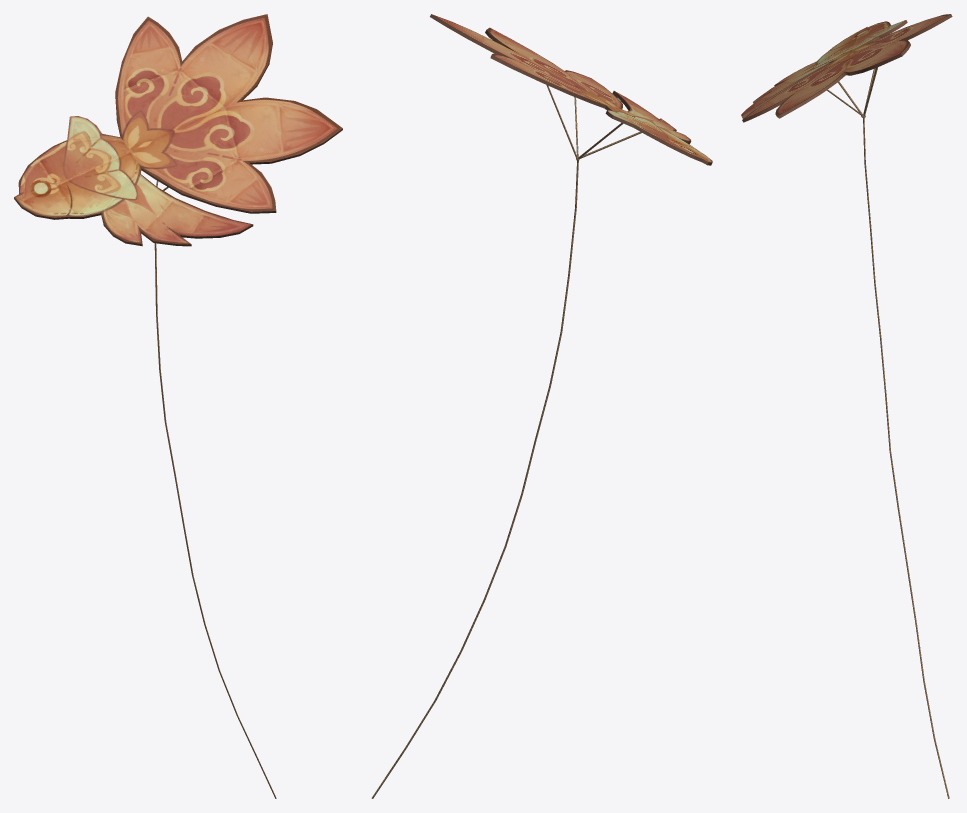
Rendered from Homeworld_Exterior_Ly_Decoration_Prop_HdjKite_04_Vo.fbx.
The picture shows the model from 3 angles, left to right: view 1: azimuth 30°, elevation 25°; view 2: azimuth 150°, elevation 25°; view 3: azimuth 270°, elevation 25°; orthographic projection. The views are drawn at different scales.
Parts seen in each view (by area): view 1: Homeworld_Exterior_Ly_Decoration_Prop_HdjKite_04_Vo; view 2: Homeworld_Exterior_Ly_Decoration_Prop_HdjKite_04_Vo; view 3: Homeworld_Exterior_Ly_Decoration_Prop_HdjKite_04_Vo.
Boxes of the visible parts, x1,y1,x2,y2 form: Homeworld_Exterior_Ly_Decoration_Prop_HdjKite_04_Vo: (14,14,342,798); Homeworld_Exterior_Ly_Decoration_Prop_HdjKite_04_Vo: (371,14,712,798); Homeworld_Exterior_Ly_Decoration_Prop_HdjKite_04_Vo: (741,14,952,798).
Size of the model in its own units: 3.44 by 8.68 by 2.28.
